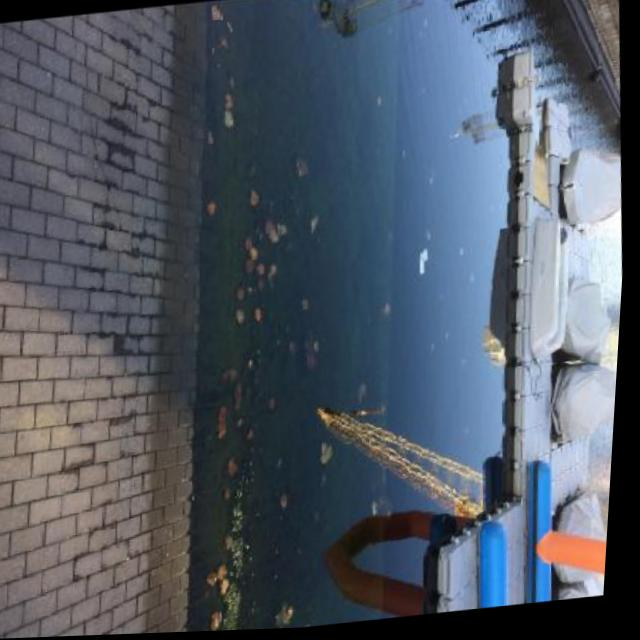paper: (417, 246, 429, 273)
